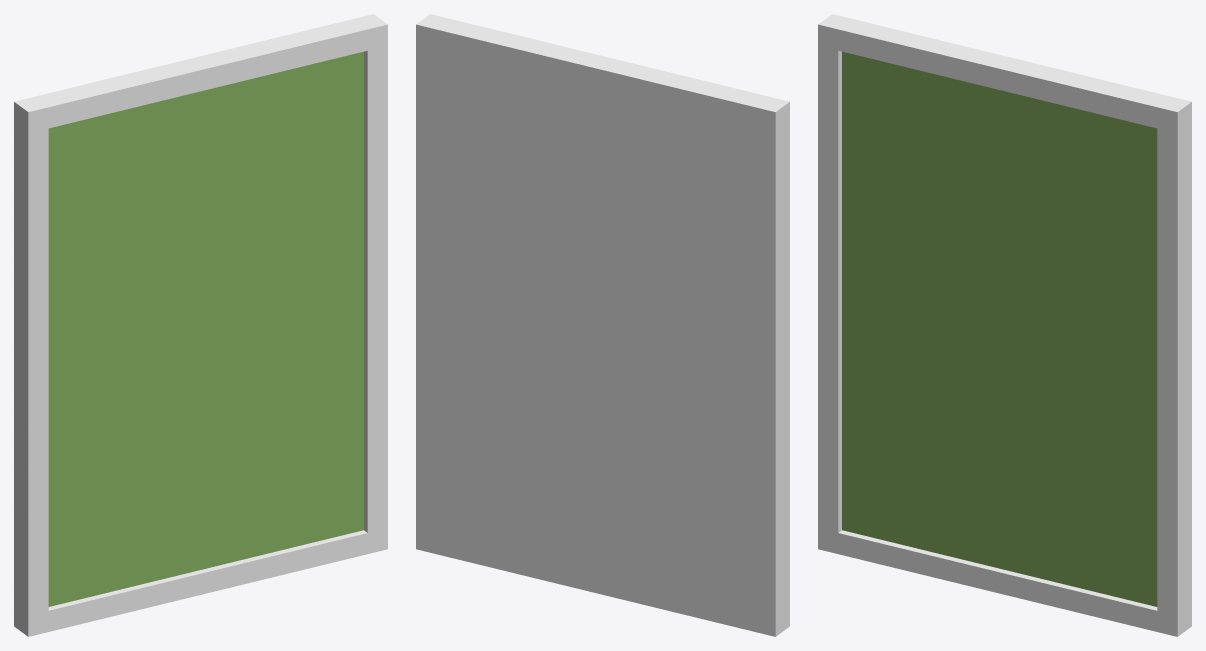
File: Painting_08.fbx
3 views of the same model, side by side, from view 1: azimuth 30°, elevation 25°; view 2: azimuth 150°, elevation 25°; view 3: azimuth 330°, elevation 25° (orthographic).
Visible parts, largest first — view 1: Painting_08; view 2: Painting_08; view 3: Painting_08.
Boxes of the visible parts, <box> form: Painting_08: <box>14,14,387,636</box>; Painting_08: <box>416,14,789,636</box>; Painting_08: <box>818,14,1191,636</box>.
Bounding box in the file's own units: 45.37 × 63.27 × 3.14.
